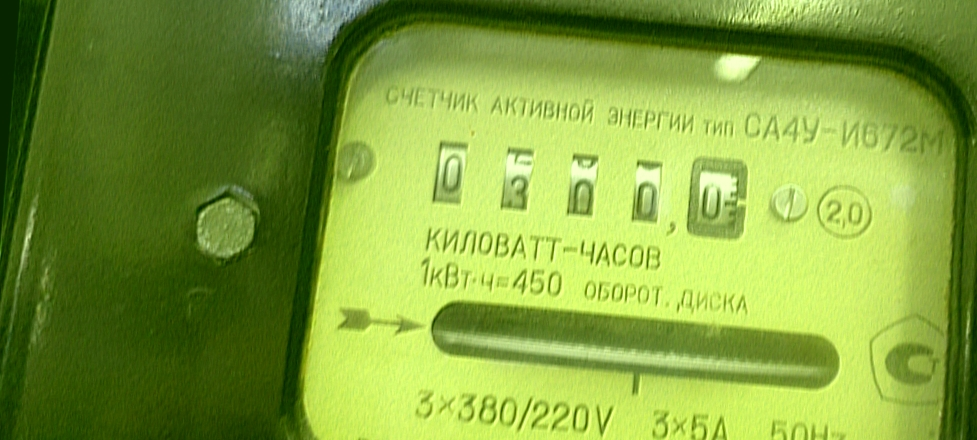0: (439, 150, 466, 198), (633, 179, 661, 225), (697, 181, 725, 225), (569, 177, 596, 219)
3: (505, 173, 531, 213)
screen: (410, 118, 771, 260)
